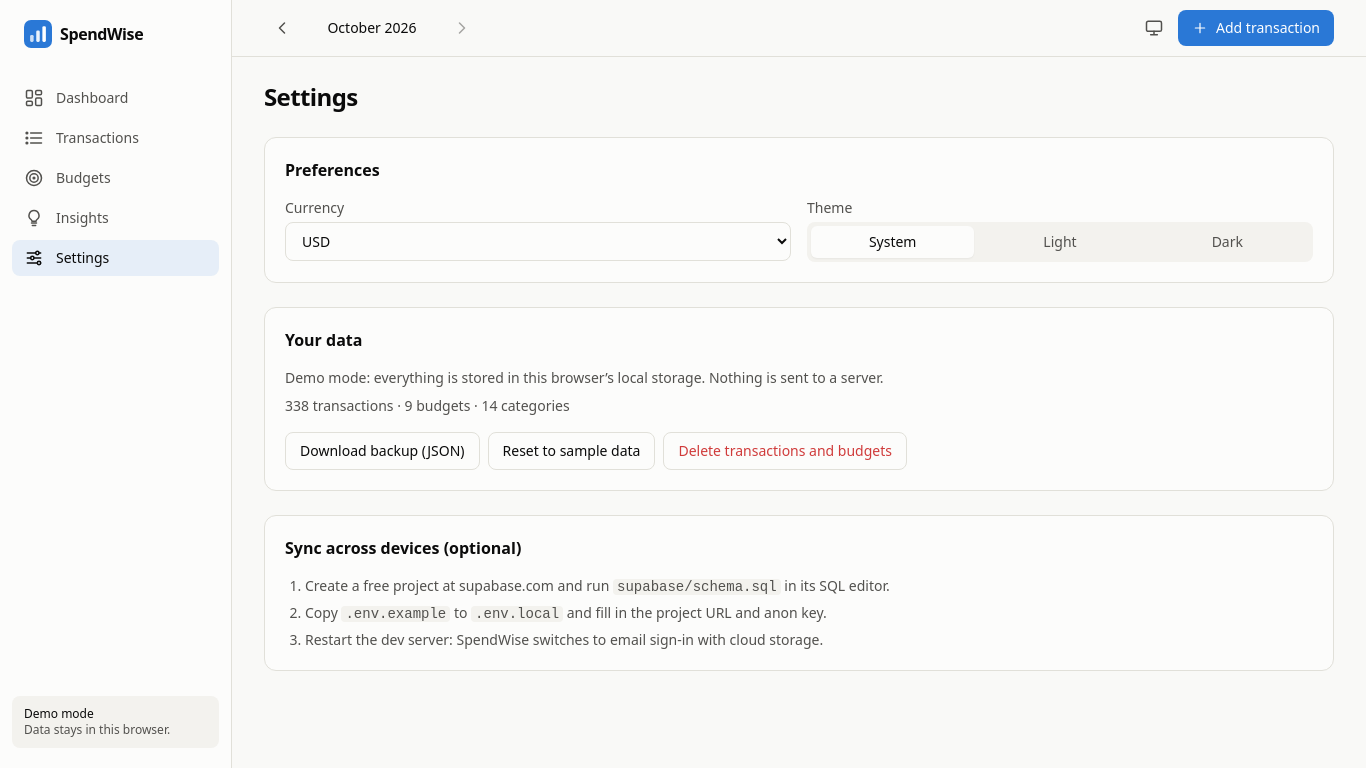
Test: App (local demo mode) › adds a transaction from the header and lists it
Expected: the text "Demo mode" is shown, top-left (24, 705), bottom-right (94, 722)
Click the button "Add transaction" at (1256, 28), box top-left (1178, 10), bottom-right (1334, 46)
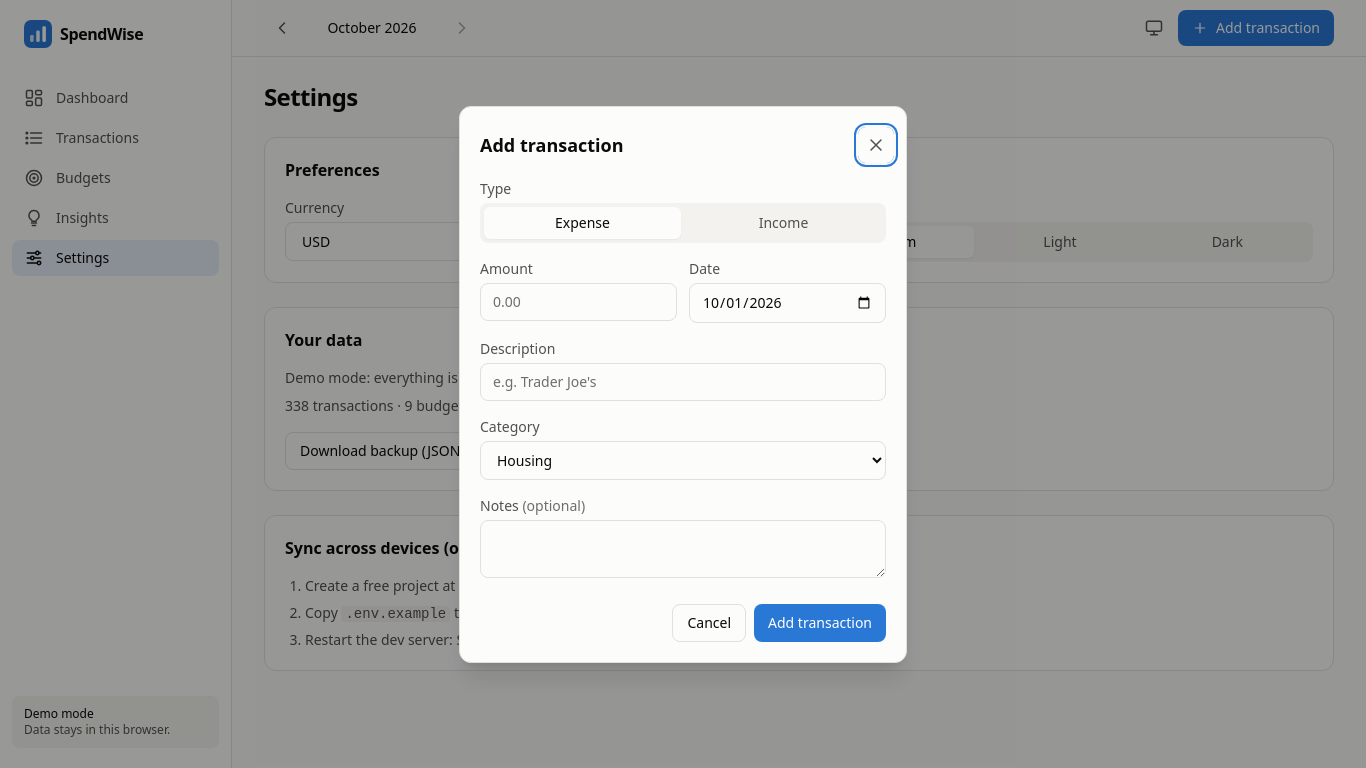
Type "12.34" into the field labelled "Amount" at (578, 302), box top-left (480, 282), bottom-right (677, 320)
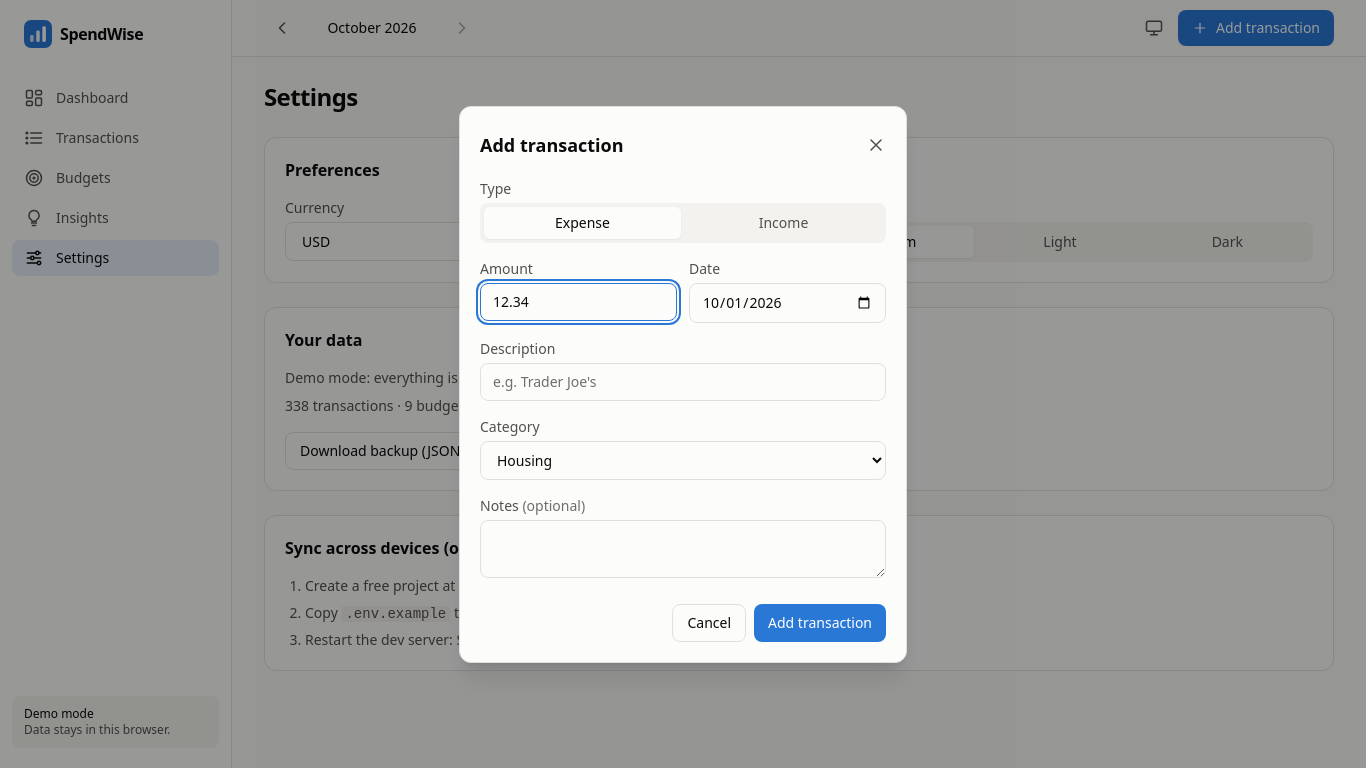
Type "Test coffee" into the field labelled "Description" at (683, 382), box top-left (480, 362), bottom-right (886, 400)
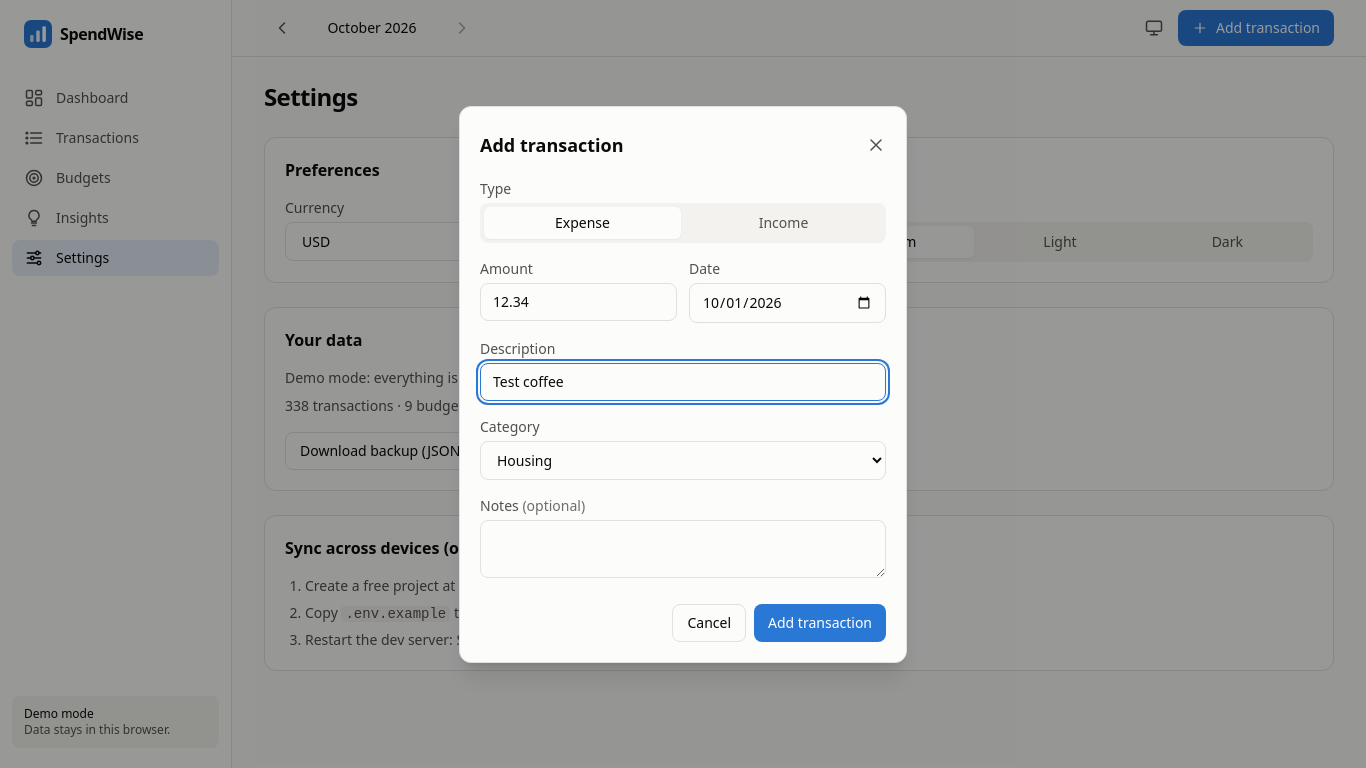
Click the button "Add transaction" at (820, 622), box top-left (754, 604), bottom-right (886, 642)
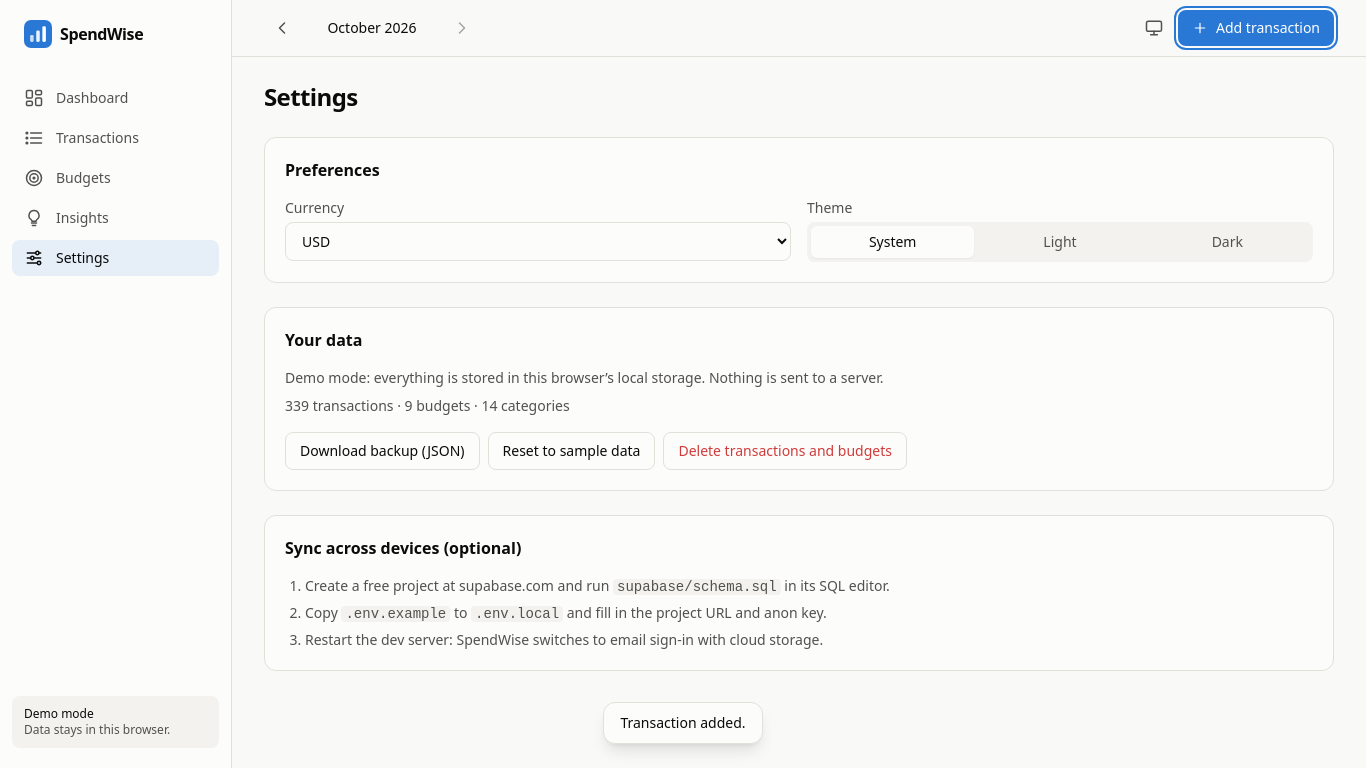
Result: the text "Transaction added." is shown at top-left (603, 702), bottom-right (762, 744)
Result: the dialog is gone
Click the link "Transactions" at (81, 138), box top-left (24, 128), bottom-right (139, 148)
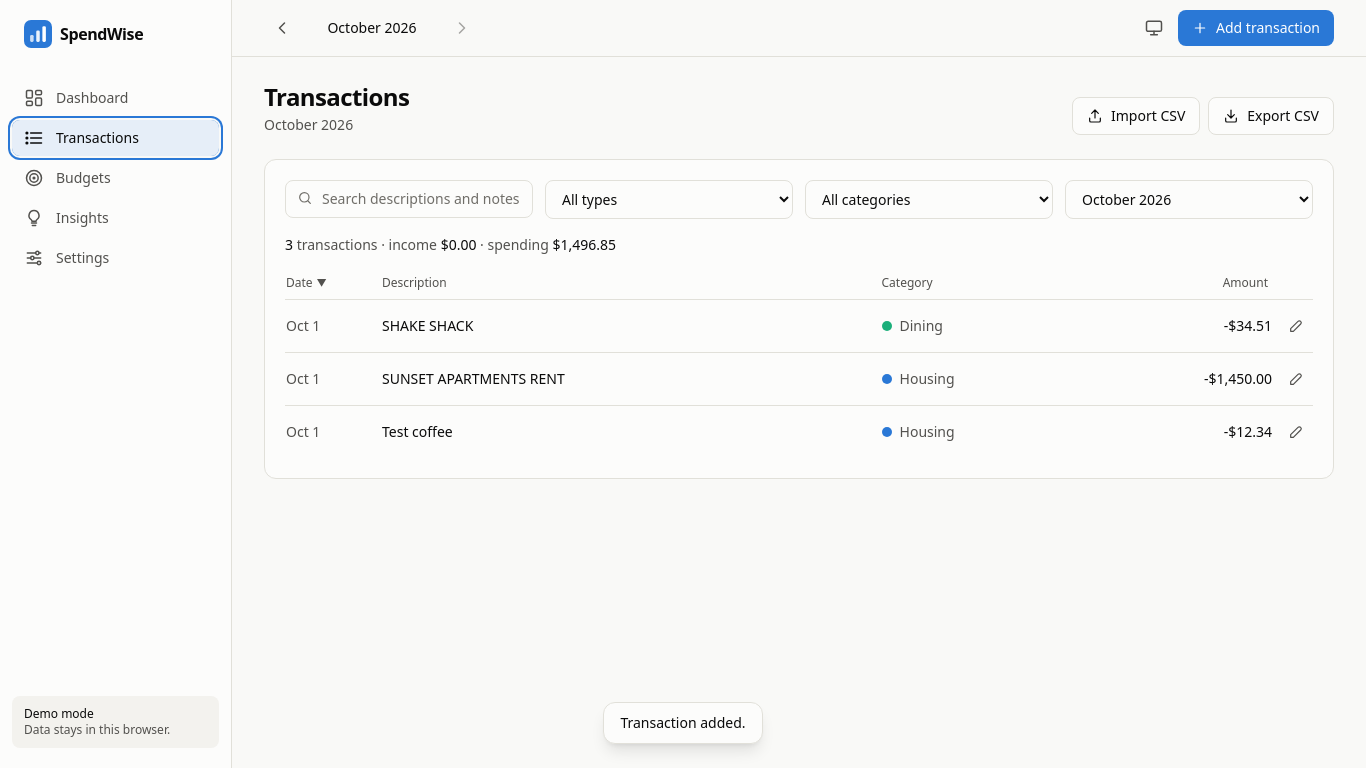
Result: the text "Test coffee" is shown at top-left (382, 422), bottom-right (453, 441)
